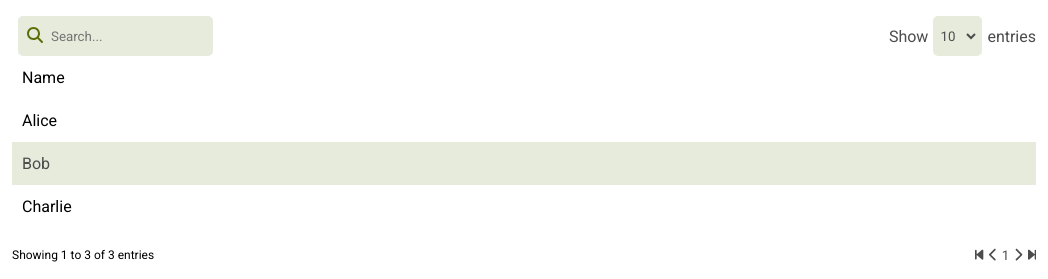
Test case: When I use the search input, then search filters data based on input
This screenshot has width=1048, height=279.
# Simulate typing a search term into the input field
In the field with test id "search-input": point(115, 36) 18,16 -> 212,56, type "Alice"
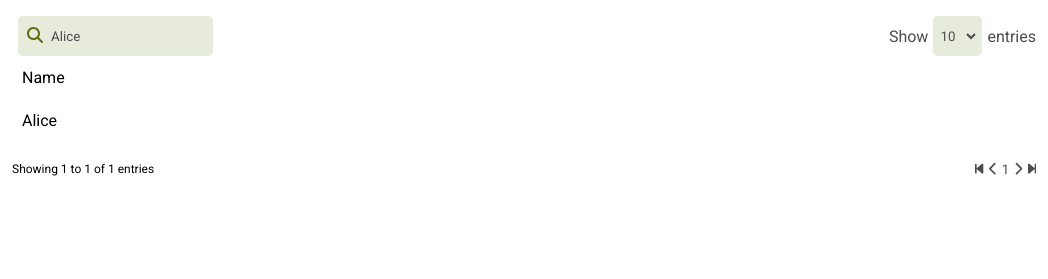
Expected: the text "Alice" is shown, 12,99 -> 1036,142
Expected: the text "Bob" is gone
